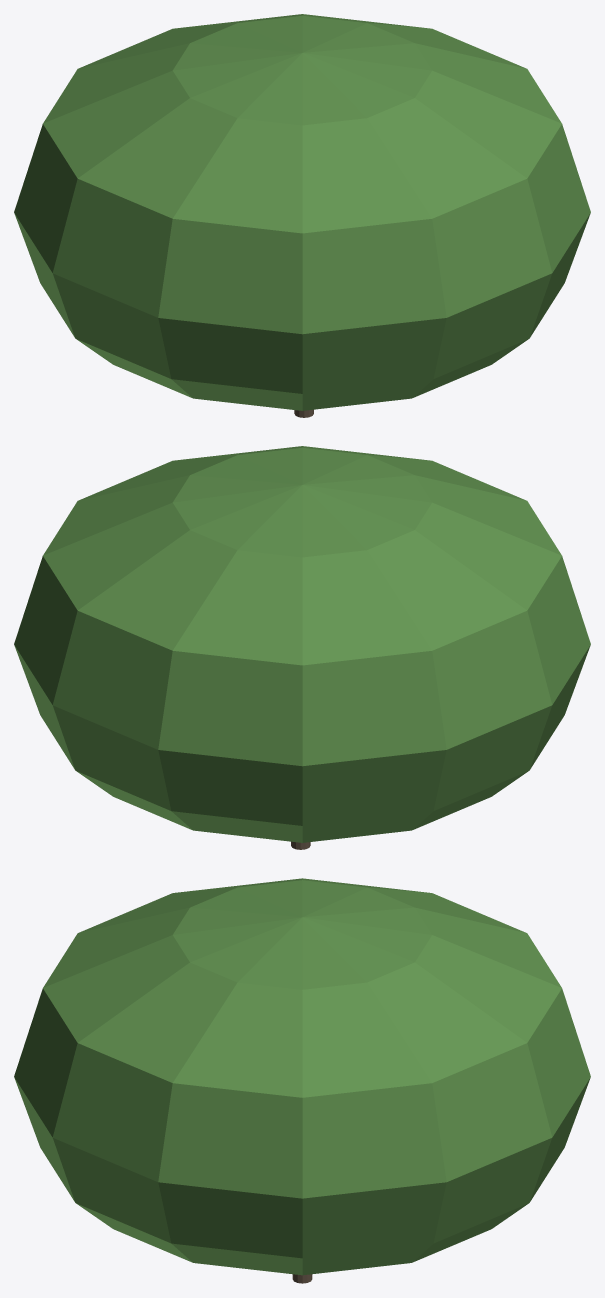
Rendered from tree4.dae.
The picture shows the model from 3 angles, top to bottom: view 1: azimuth 30°, elevation 25°; view 2: azimuth 150°, elevation 25°; view 3: azimuth 270°, elevation 25°; orthographic projection.
Parts seen in each view (by area): view 1: mesh; view 2: mesh; view 3: mesh.
Part boxes in pixels (x1,y1,x2,y2): mesh: (14, 14, 590, 417); mesh: (14, 446, 590, 849); mesh: (14, 878, 590, 1283).
Bounding box in the file's own units: 29.52 × 29.52 × 20.4.
